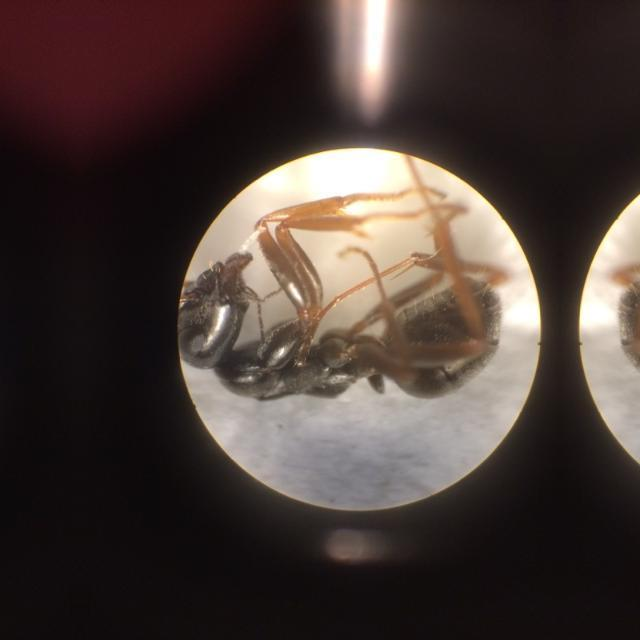Formica: (178, 205, 532, 425)
